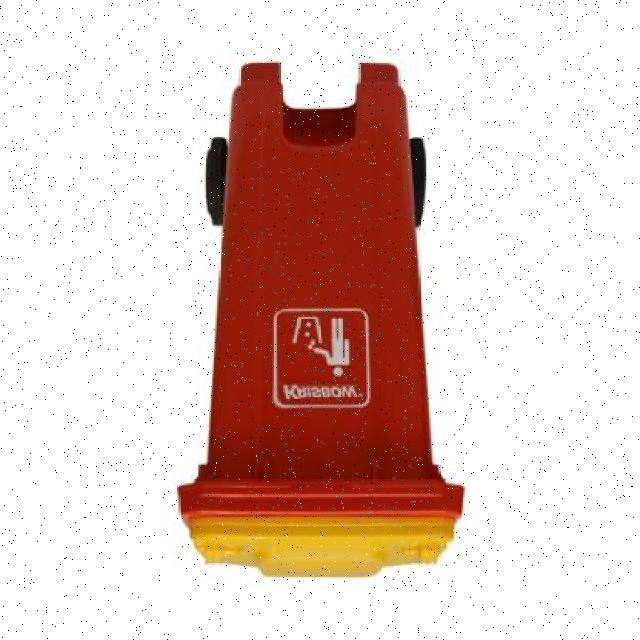garbage container: (171, 28, 485, 590)
